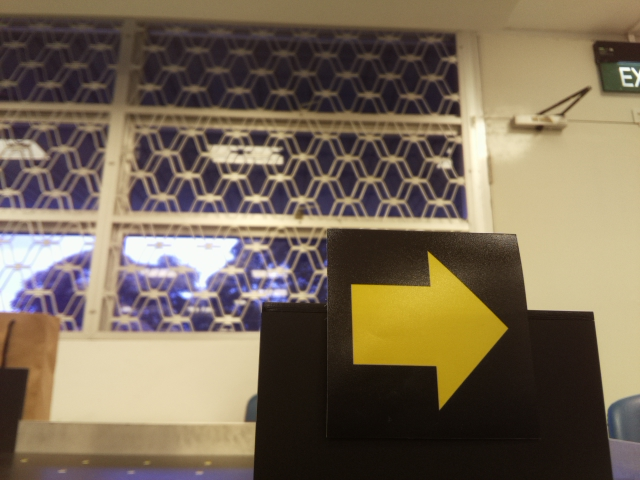right: (338, 243, 525, 415)
